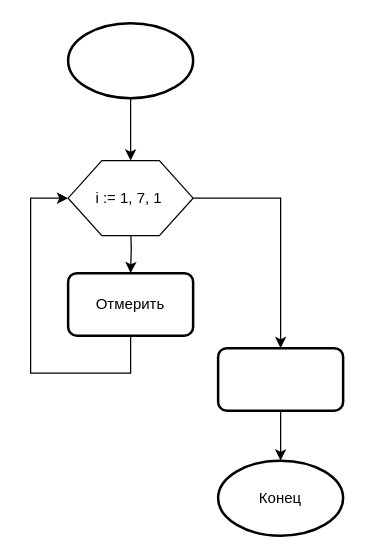
Some shapes in this 366 by 558 pixel diagram are drawn without their labels. The shapes that lost their labels are listed below. From the top down, each one's centre as x and y in pixels, then its label:
At point 130,60: "Начало".
At point 280,378: "Отрезать".
